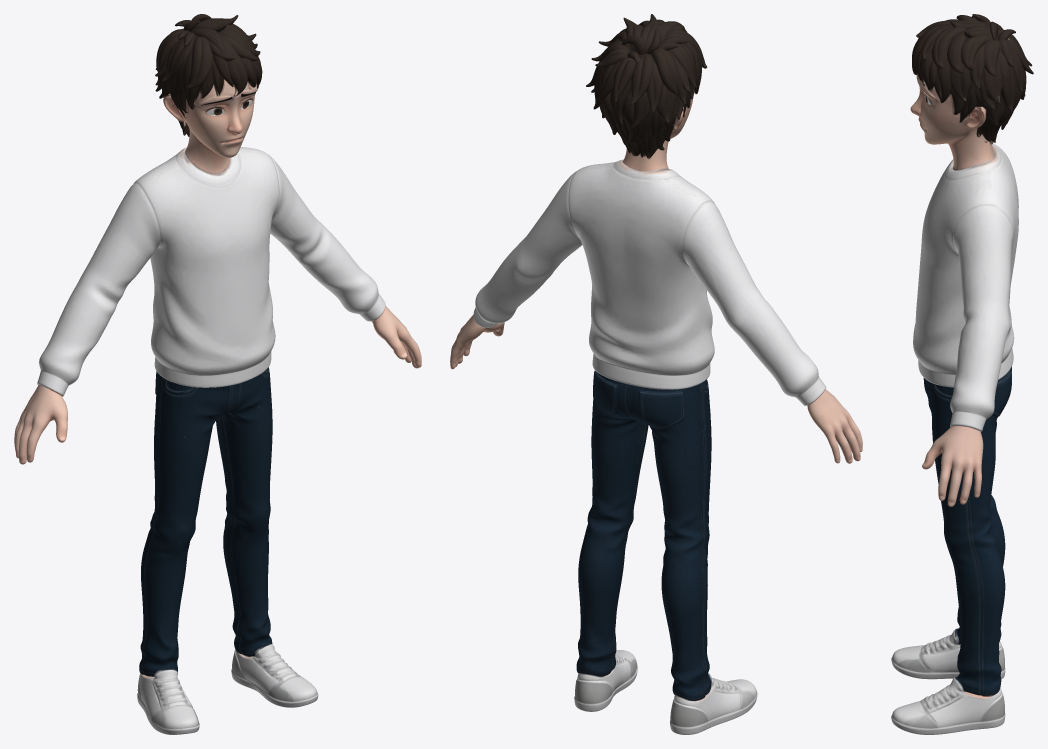
File: principal.glb
The picture shows the model from 3 angles, left to right: view 1: azimuth 30°, elevation 25°; view 2: azimuth 150°, elevation 25°; view 3: azimuth 270°, elevation 25°; orthographic projection.
Bounding box in the file's own units: 1.17 × 1.9 × 0.3599.
Materials: 1 (1 with a texture image).
